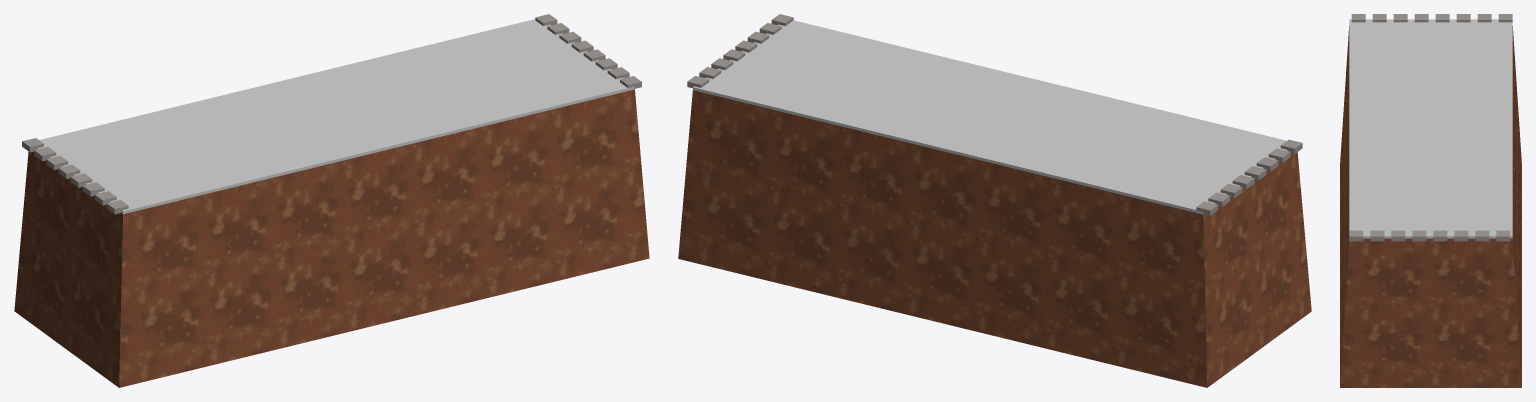
File: SM_Art_Authored_DeepRouteWall_2200x700x700_1_12.gltf
3 views of the same model, side by side, from view 1: azimuth 30°, elevation 25°; view 2: azimuth 150°, elevation 25°; view 3: azimuth 270°, elevation 25° (orthographic). The views are drawn at different scales.
Parts seen in each view (by area): view 1: SM_Art_Authored_DeepRouteWall_2200x700x700_1_12; view 2: SM_Art_Authored_DeepRouteWall_2200x700x700_1_12; view 3: SM_Art_Authored_DeepRouteWall_2200x700x700_1_12.
Part boxes in pixels (x1,y1,x2,y2): SM_Art_Authored_DeepRouteWall_2200x700x700_1_12: [14, 14, 649, 387]; SM_Art_Authored_DeepRouteWall_2200x700x700_1_12: [678, 14, 1311, 387]; SM_Art_Authored_DeepRouteWall_2200x700x700_1_12: [1340, 14, 1521, 387].
Bounding box in the file's own units: 22.8 × 7.12 × 7.8.
